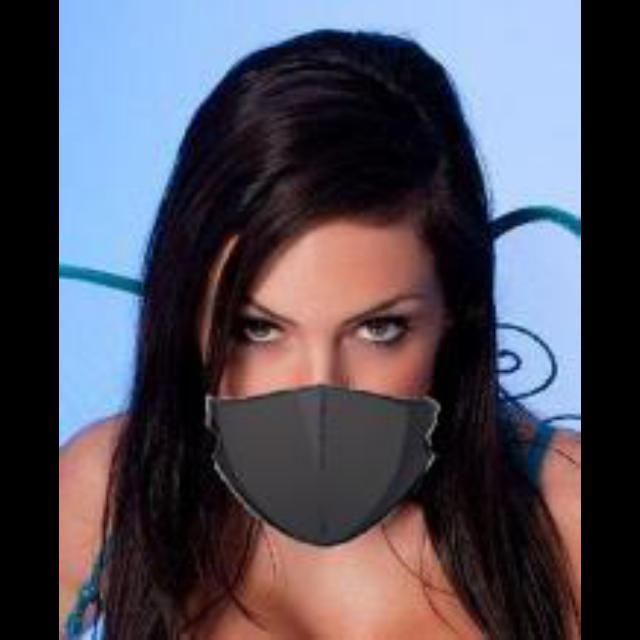suspicion: (154, 53, 554, 581)
